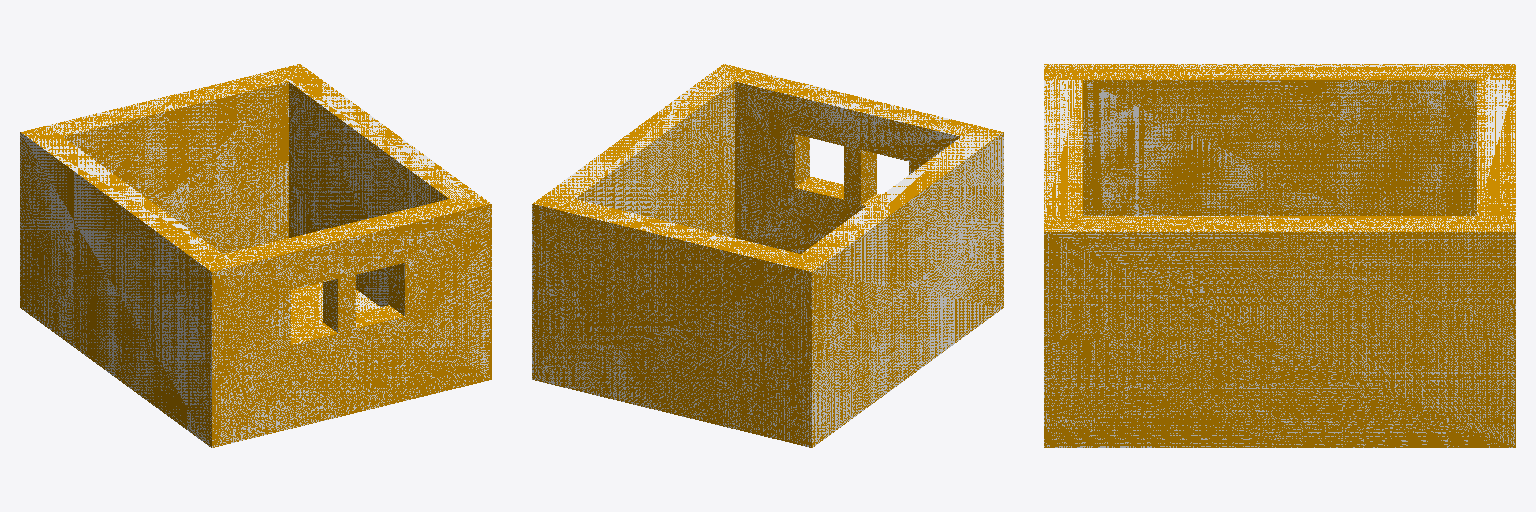
robot.urdf — my_object:
<?xml version="1.0" ?> 
<robot name="my_object" static="true">
  <link name="base_link">
  <inertial>
    <mass value="0.585" />
    <origin xyz="0 0 0.0" />
    <inertia ixx="1.0" ixy="0.0" ixz="0.0" iyy="1.0" iyz="0.0" izz="1.0"/>
  </inertial>
  <visual>
   <origin xyz="0 0 0.0" rpy="0 0 0" />
   <geometry>
     <mesh filename="package://cob_gazebo_objects/Media/models/brown_basket.dae"/>
   </geometry>
  </visual>
  <collision>
   <origin xyz="0 0 0" rpy="0 0 0" />
   <geometry>
     <box size="0.24 0.285 0.145" />
   </geometry>
  </collision>     
  </link>

<gazebo>
	<static>true</static>
</gazebo>
</robot>

--- What the picture shows (computed from the rendered views, not written in the file) ---
3 views of the same robot in one strip: view 1: azimuth 30°, elevation 25°; view 2: azimuth 150°, elevation 25°; view 3: azimuth 270°, elevation 25° (orthographic).
Model my_object with 1 links and 0 joints (none), rooted at base_link, posed all joints at 0.
Visible links, largest first — view 1: base_link; view 2: base_link; view 3: base_link.
Boxes of the visible links, box(x1,y1,x2,y2) form: base_link: box(20, 64, 491, 447); base_link: box(532, 64, 1003, 447); base_link: box(1044, 64, 1515, 447).
Size in the robot's own frame: 0.0061 by 0.0072 by 0.0037 metres.
Meshes: 1 distinct files referenced, 1 mesh visuals loaded (1 Collada DAE).